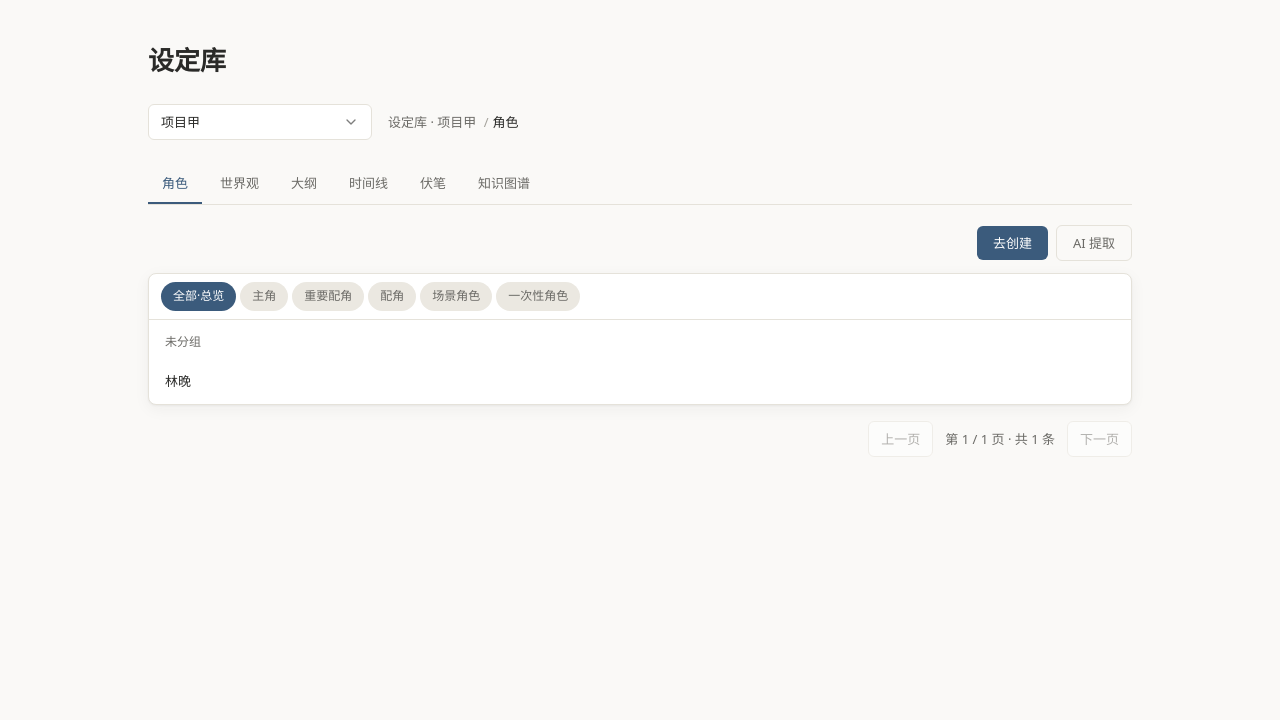
Test case: 设定库页 — 项目上下文（spec §7.3） › 列表非空时仍有「新建」按钮（#545：创建实体后无常态创建入口）
expect the element with test id "library-list" shows "林晚": met, box [165,370,1047,392]
Note: 点击 → 打开创建对话框
Click the button with test id "library-create-btn": {"x": 1012, "y": 243} [977,226,1048,260]
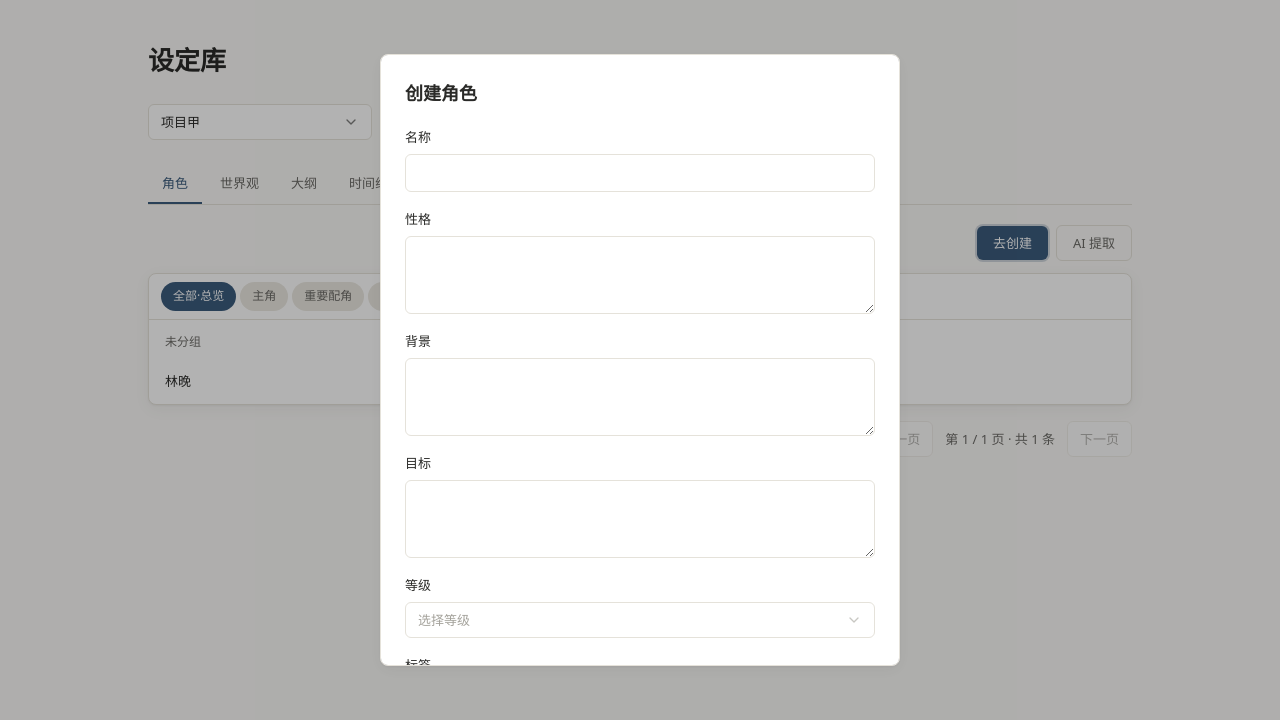
expect the dialog with test id "library-create-dialog" is shown: met, box [380,54,900,666]
